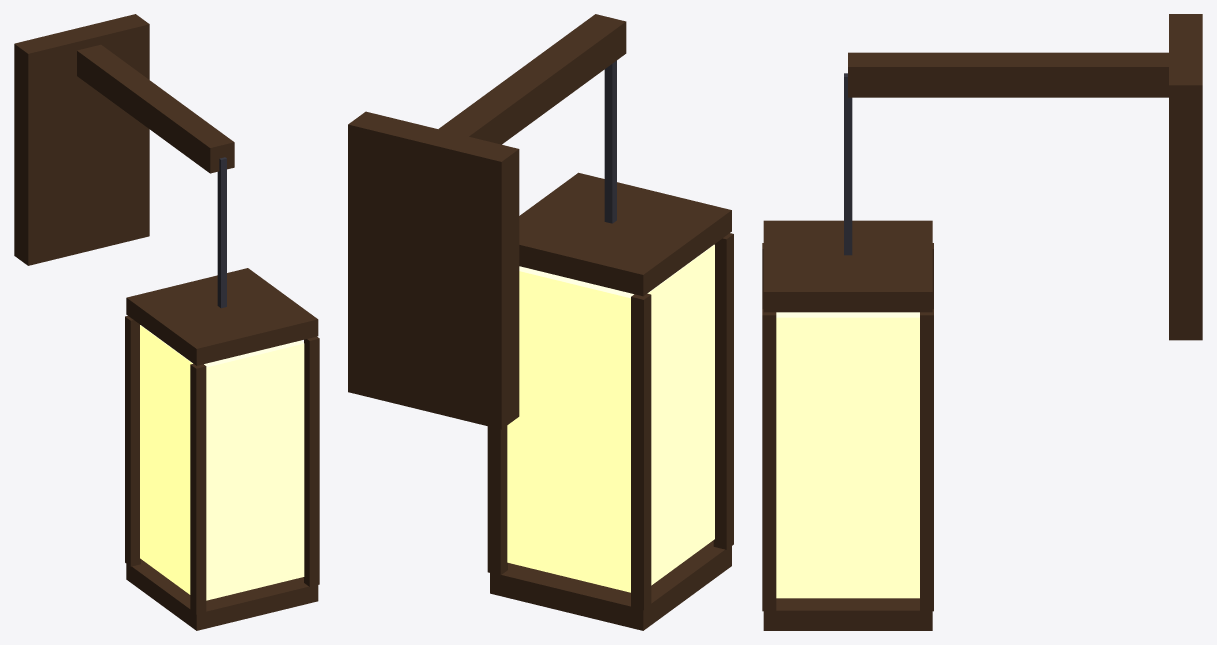
The model's file is prop_eave_lamp.glb.
The picture shows the model from 3 angles, left to right: view 1: azimuth 30°, elevation 25°; view 2: azimuth 150°, elevation 25°; view 3: azimuth 270°, elevation 25°; orthographic projection. The views are drawn at different scales.
Parts seen in each view (by area): view 1: Lamp_frame, Lamp_glow; view 2: Lamp_frame, Lamp_glow; view 3: Lamp_frame, Lamp_glow.
Part boxes in pixels (left/top/right/bottom): Lamp_frame: left=14, top=14, right=319, bottom=630; Lamp_glow: left=140, top=325, right=304, bottom=600; Lamp_frame: left=348, top=14, right=733, bottom=630; Lamp_glow: left=507, top=244, right=714, bottom=592; Lamp_frame: left=762, top=14, right=1202, bottom=630; Lamp_glow: left=776, top=312, right=919, bottom=598.
Bounding box in the file's own units: 0.305 × 1.07 × 0.7825.
